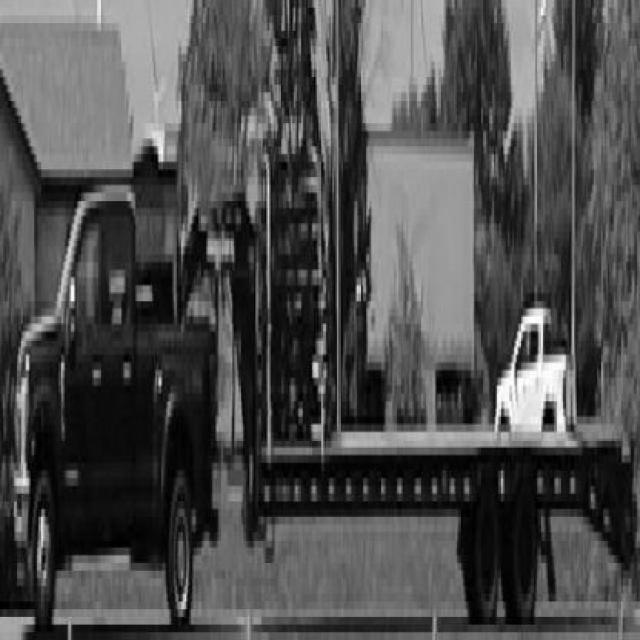Pickup: (13, 185, 220, 631)
Trailer: (177, 199, 637, 626)
